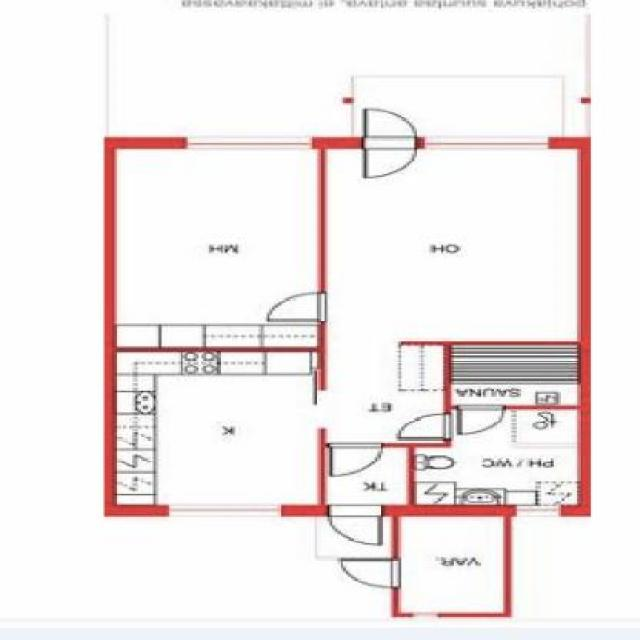door: (360, 108, 422, 180), (326, 503, 385, 546), (262, 290, 332, 322), (335, 557, 403, 589), (329, 445, 380, 477), (459, 404, 506, 436), (395, 412, 451, 437)
window: (186, 135, 311, 148), (169, 505, 282, 517), (426, 137, 549, 148), (518, 506, 558, 517), (412, 611, 438, 617)
zone: (116, 148, 578, 504), (115, 148, 317, 348), (414, 411, 578, 503), (354, 77, 560, 137), (399, 517, 503, 612), (328, 448, 408, 503)
